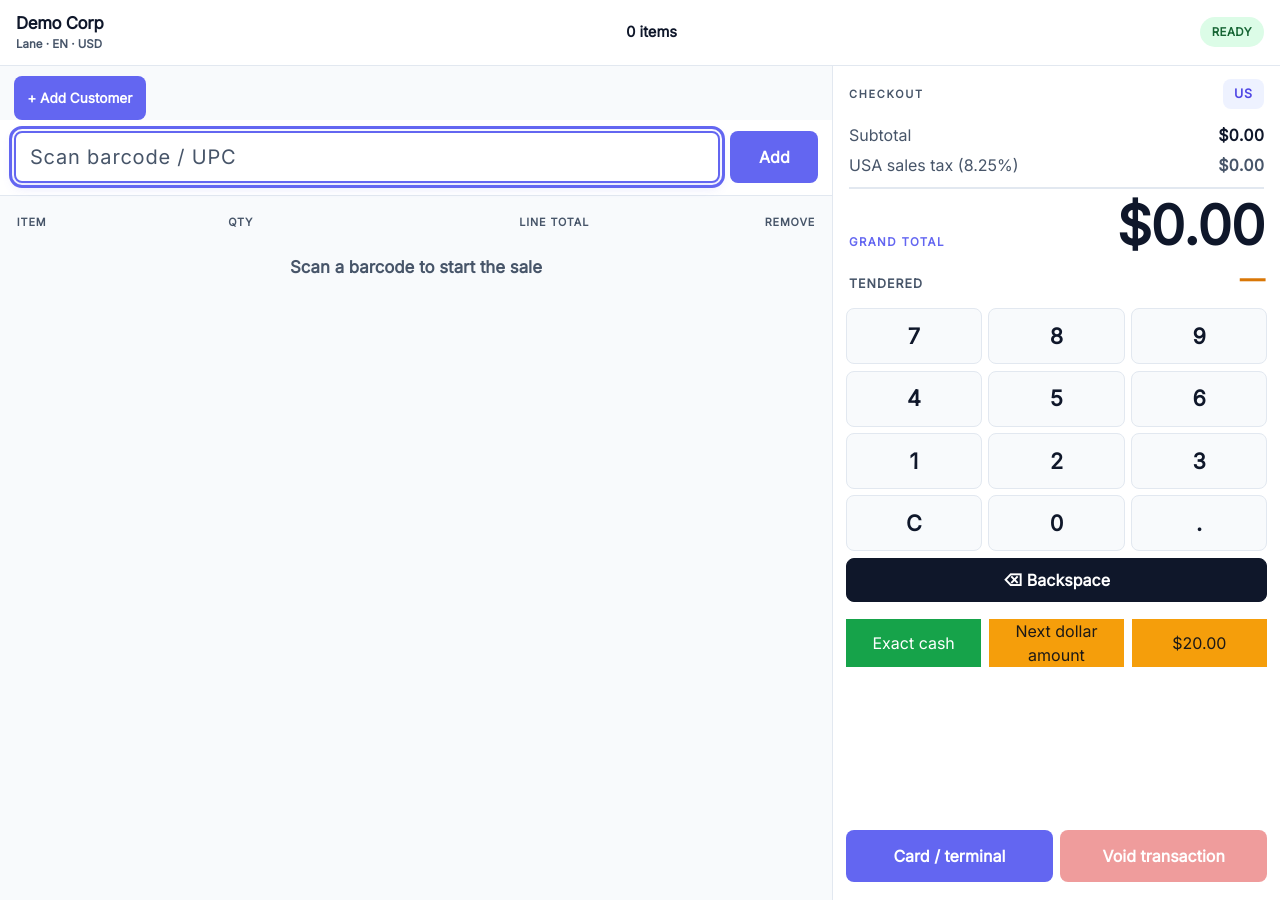
Test case: RegisterPage › decrements qty to remove a line and accepts card tender
In the field with test id "pos-upc-search": point(367, 157) [14,131,720,183], type "049000042566"
Then press Enter
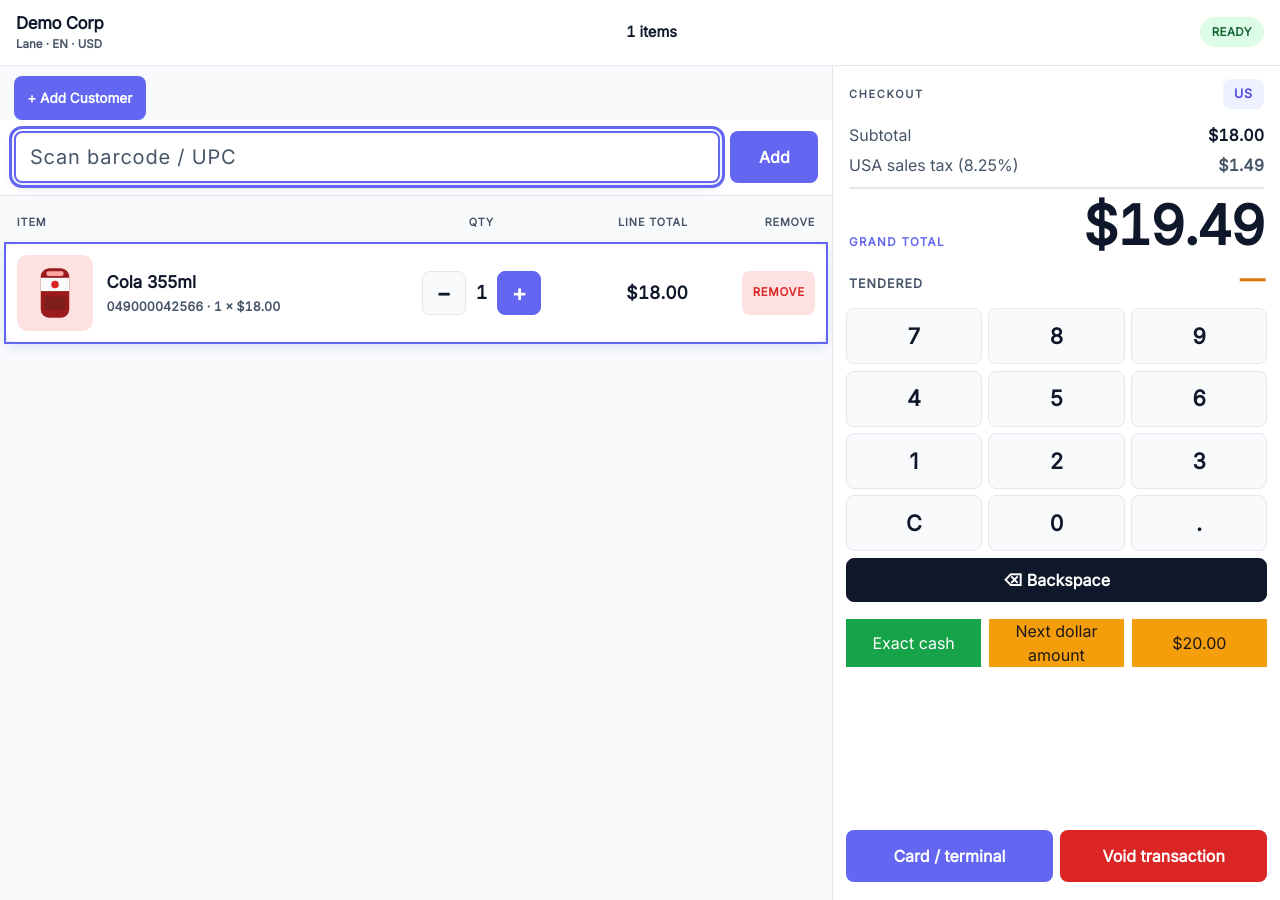
Check: the row with test id "cart-row-049000042566" is shown, box [6,244,826,342]
Click the button named "Decrease Cola 355ml": point(444, 293) [422,271,466,315]
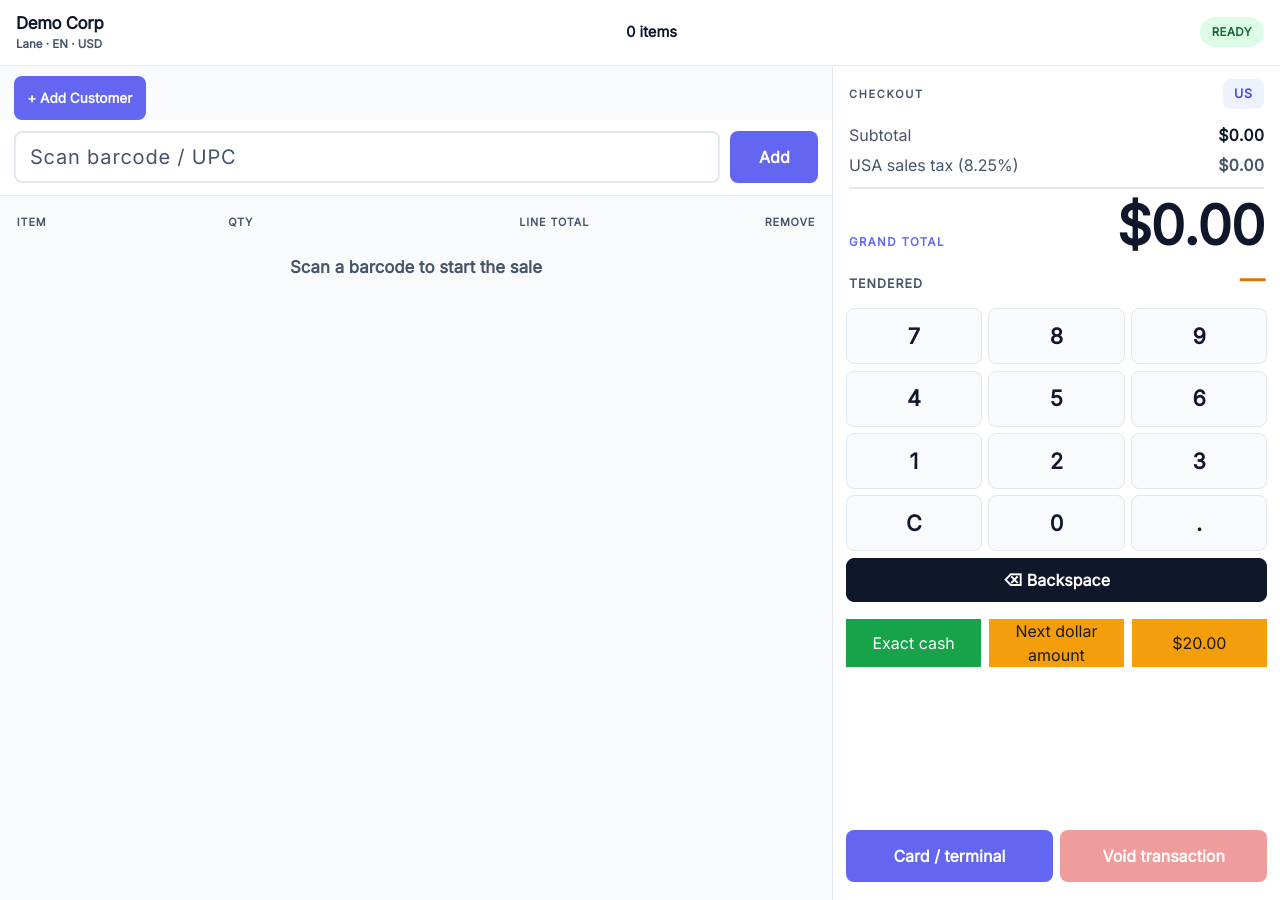
Check: the row with test id "cart-row-049000042566" is gone
In the field with test id "pos-upc-search": point(367, 157) [14,131,720,183], type "022000001234"
Then press Enter
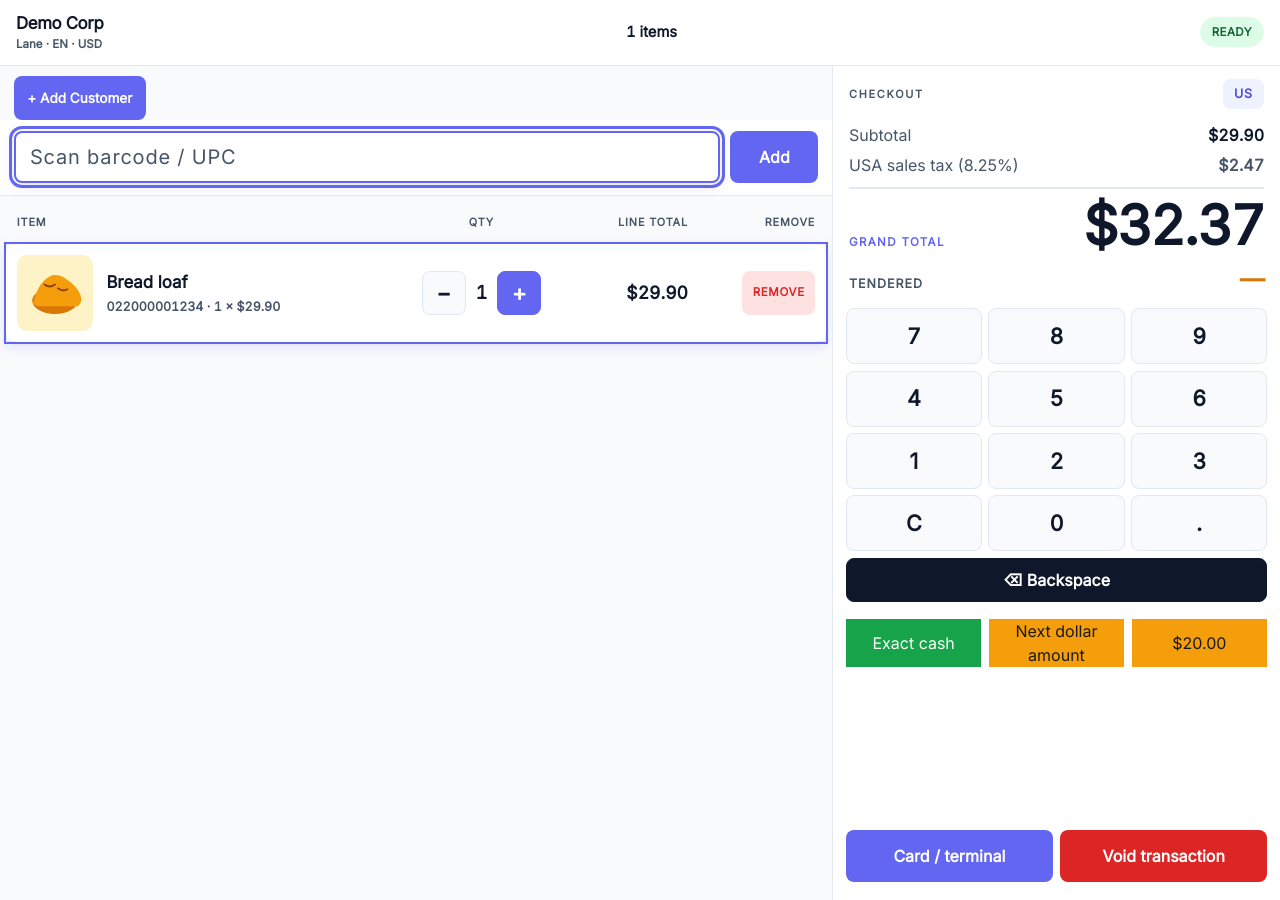
Click the button with test id "tender-card": point(949, 856) [846,830,1053,882]
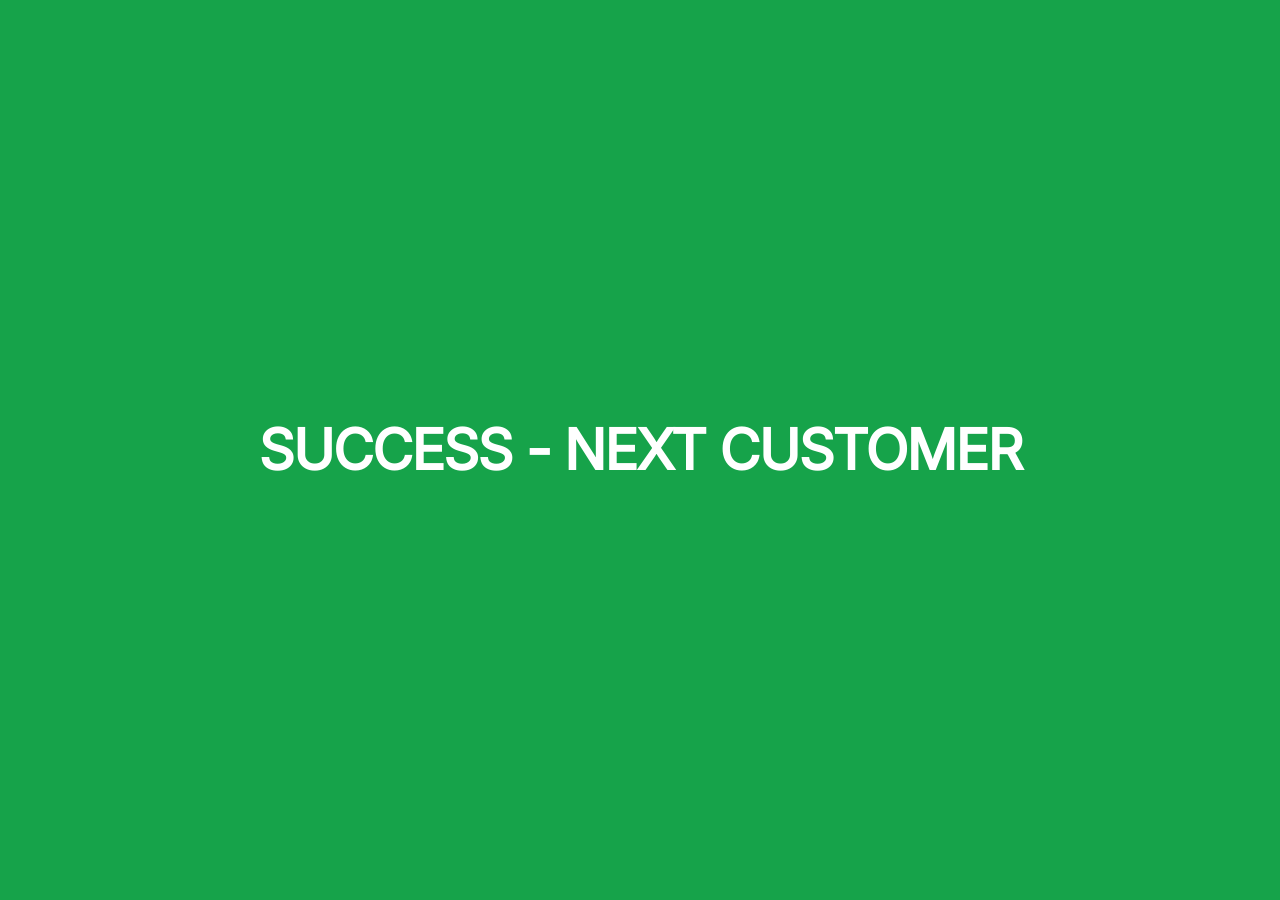
Check: the message "SUCCESS - NEXT CUSTOMER" is shown
